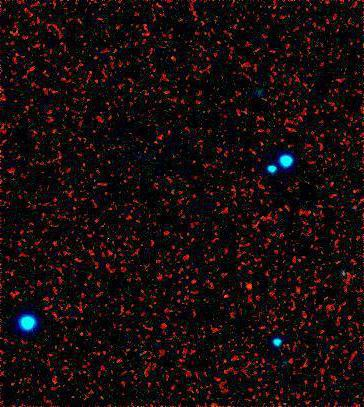star: (235, 276, 265, 306)
